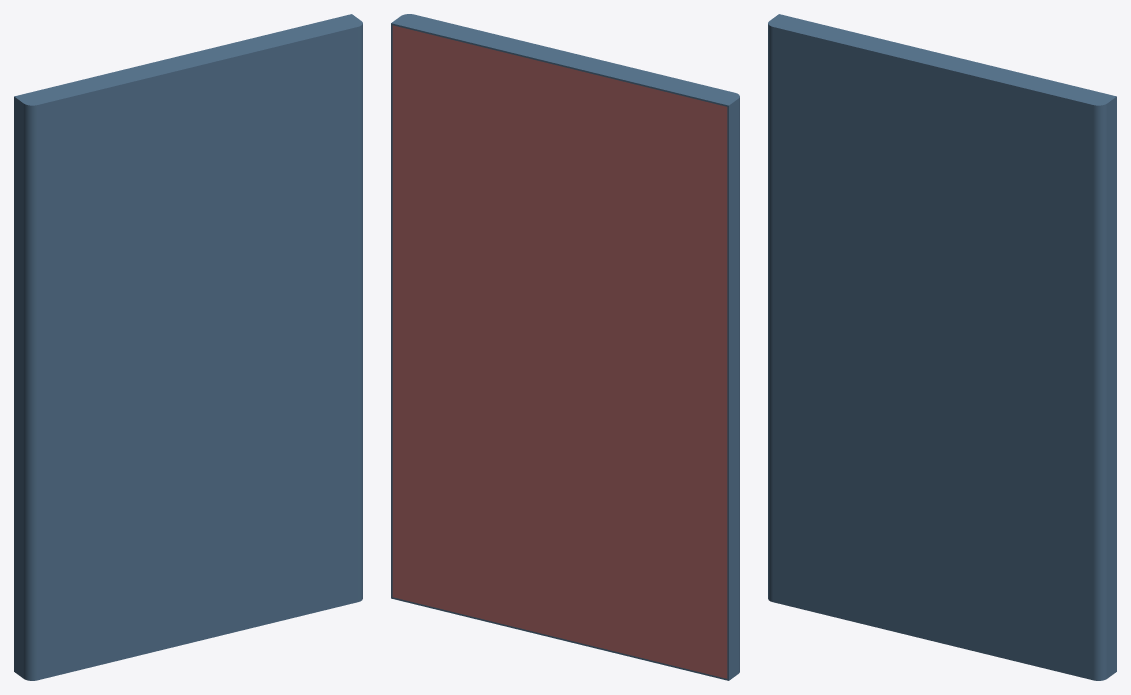
File: step_02.glb
3 renders of one model, left to right at view 1: azimuth 30°, elevation 25°; view 2: azimuth 150°, elevation 25°; view 3: azimuth 330°, elevation 25°, orthographic.
Parts seen in each view (by area): view 1: part__back cushion cover; view 2: removed__back cushion cover, part__back cushion cover; view 3: part__back cushion cover.
Boxes of the visible parts, <box> form: part__back cushion cover: <box>14,14,362,680</box>; removed__back cushion cover: <box>392,25,727,678</box>; part__back cushion cover: <box>391,14,739,680</box>; part__back cushion cover: <box>768,14,1116,680</box>.
Size of the model in its own units: 424 by 690 by 32.
